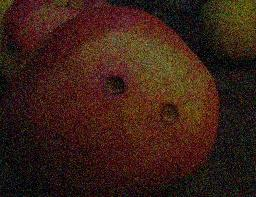rotten apple: (1, 1, 222, 194)
